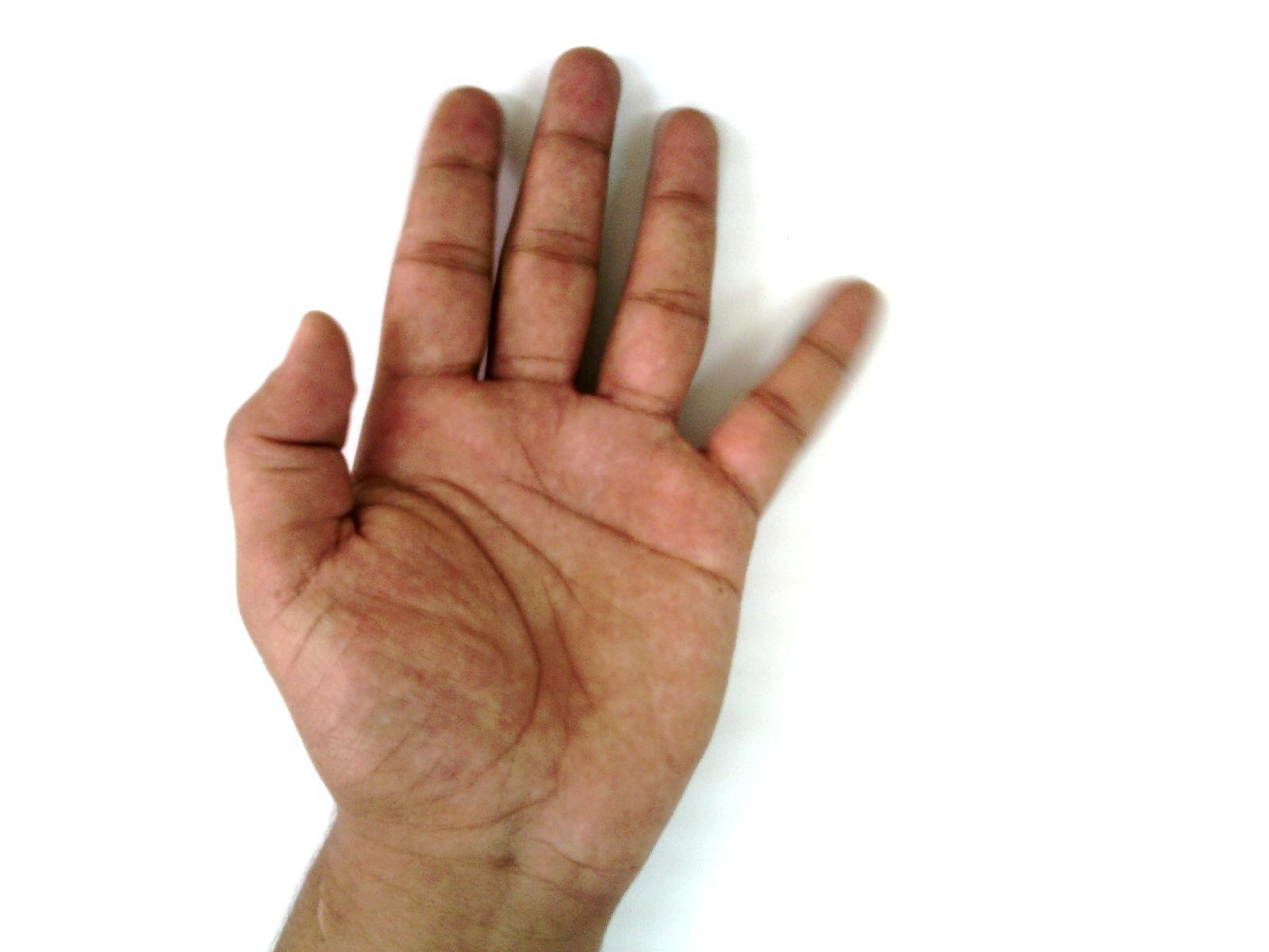open_palm: (220, 46, 889, 892)
